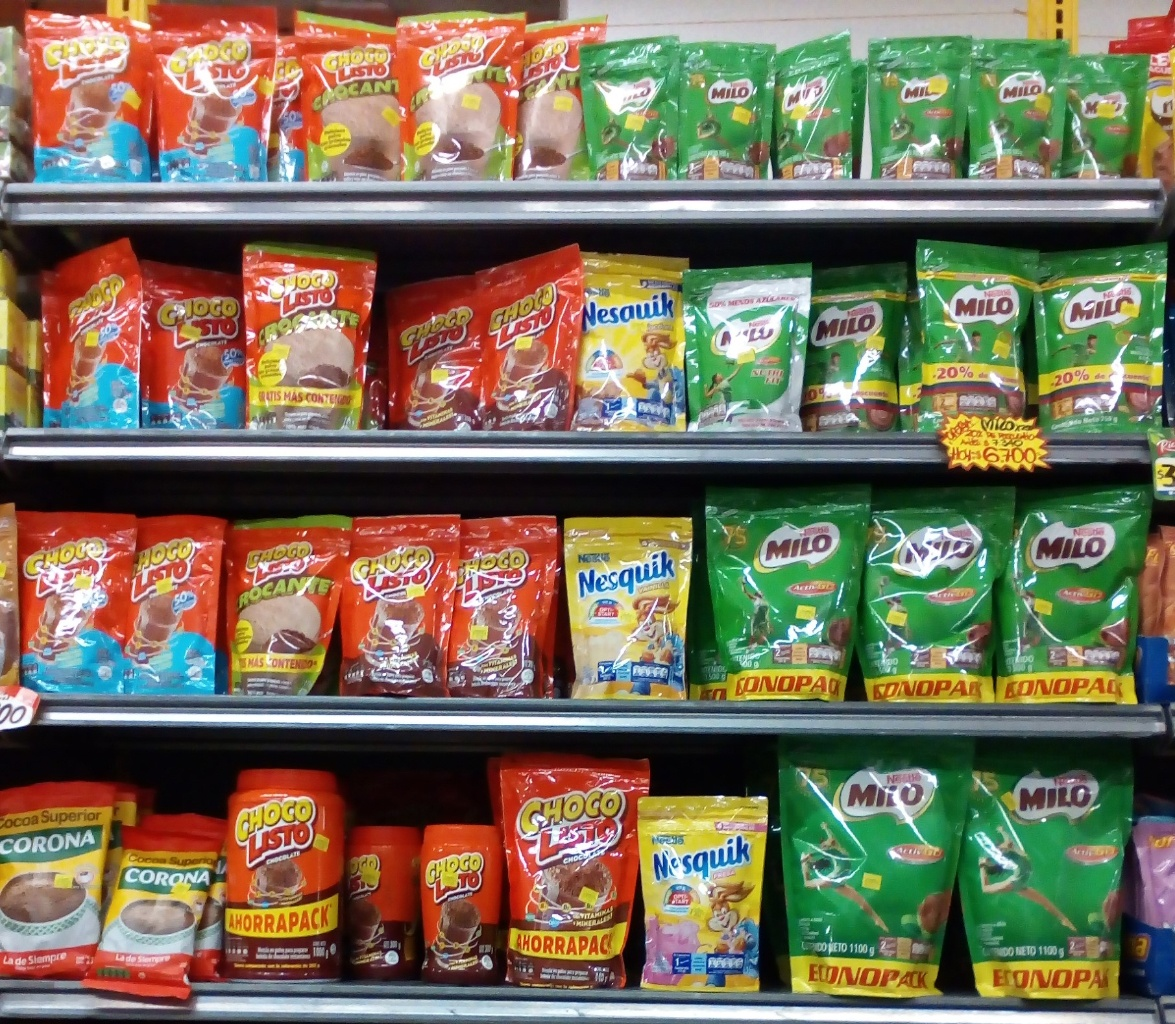COL0170102DYP25000: (235, 513, 358, 701)
COL0170103DYP20000: (472, 253, 584, 432)
COL0170103DYP40000: (505, 756, 638, 988)
COL0170103TRR00100: (229, 768, 344, 980)
COL0170103TRR30000: (407, 826, 512, 987)
COL0170104DYP20000: (145, 0, 277, 189)
COL0170203DYP10000: (582, 33, 679, 181)
COL0170203DYP25000: (915, 248, 1045, 434)
COL0170203DYP50000: (705, 478, 865, 701)
COL0170205DYP20000: (692, 259, 813, 431)
COL0170303DYP20000: (563, 241, 692, 431)
COL0170305DYP20000: (639, 790, 770, 991)
COL0170306DYP20000: (561, 515, 706, 711)
